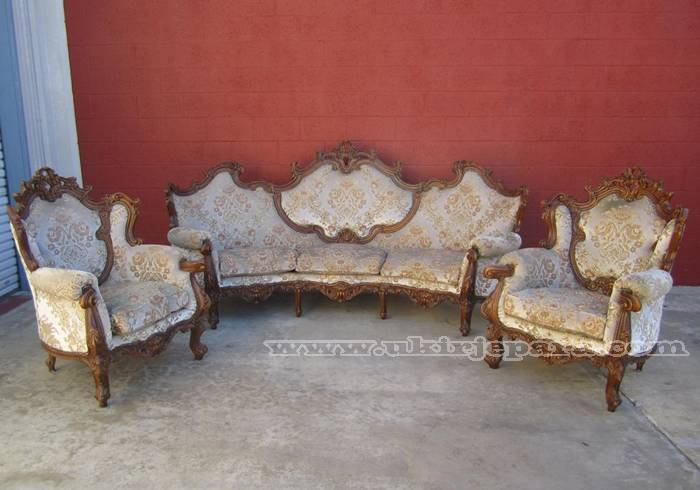Carving Chair: (172, 145, 508, 344), (7, 167, 209, 402), (503, 176, 681, 410)
